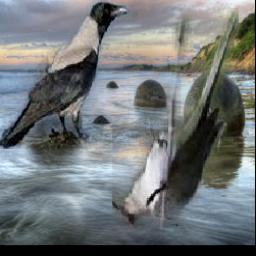Crow: (0, 0, 132, 149)
Cuckoo: (112, 8, 239, 236)
